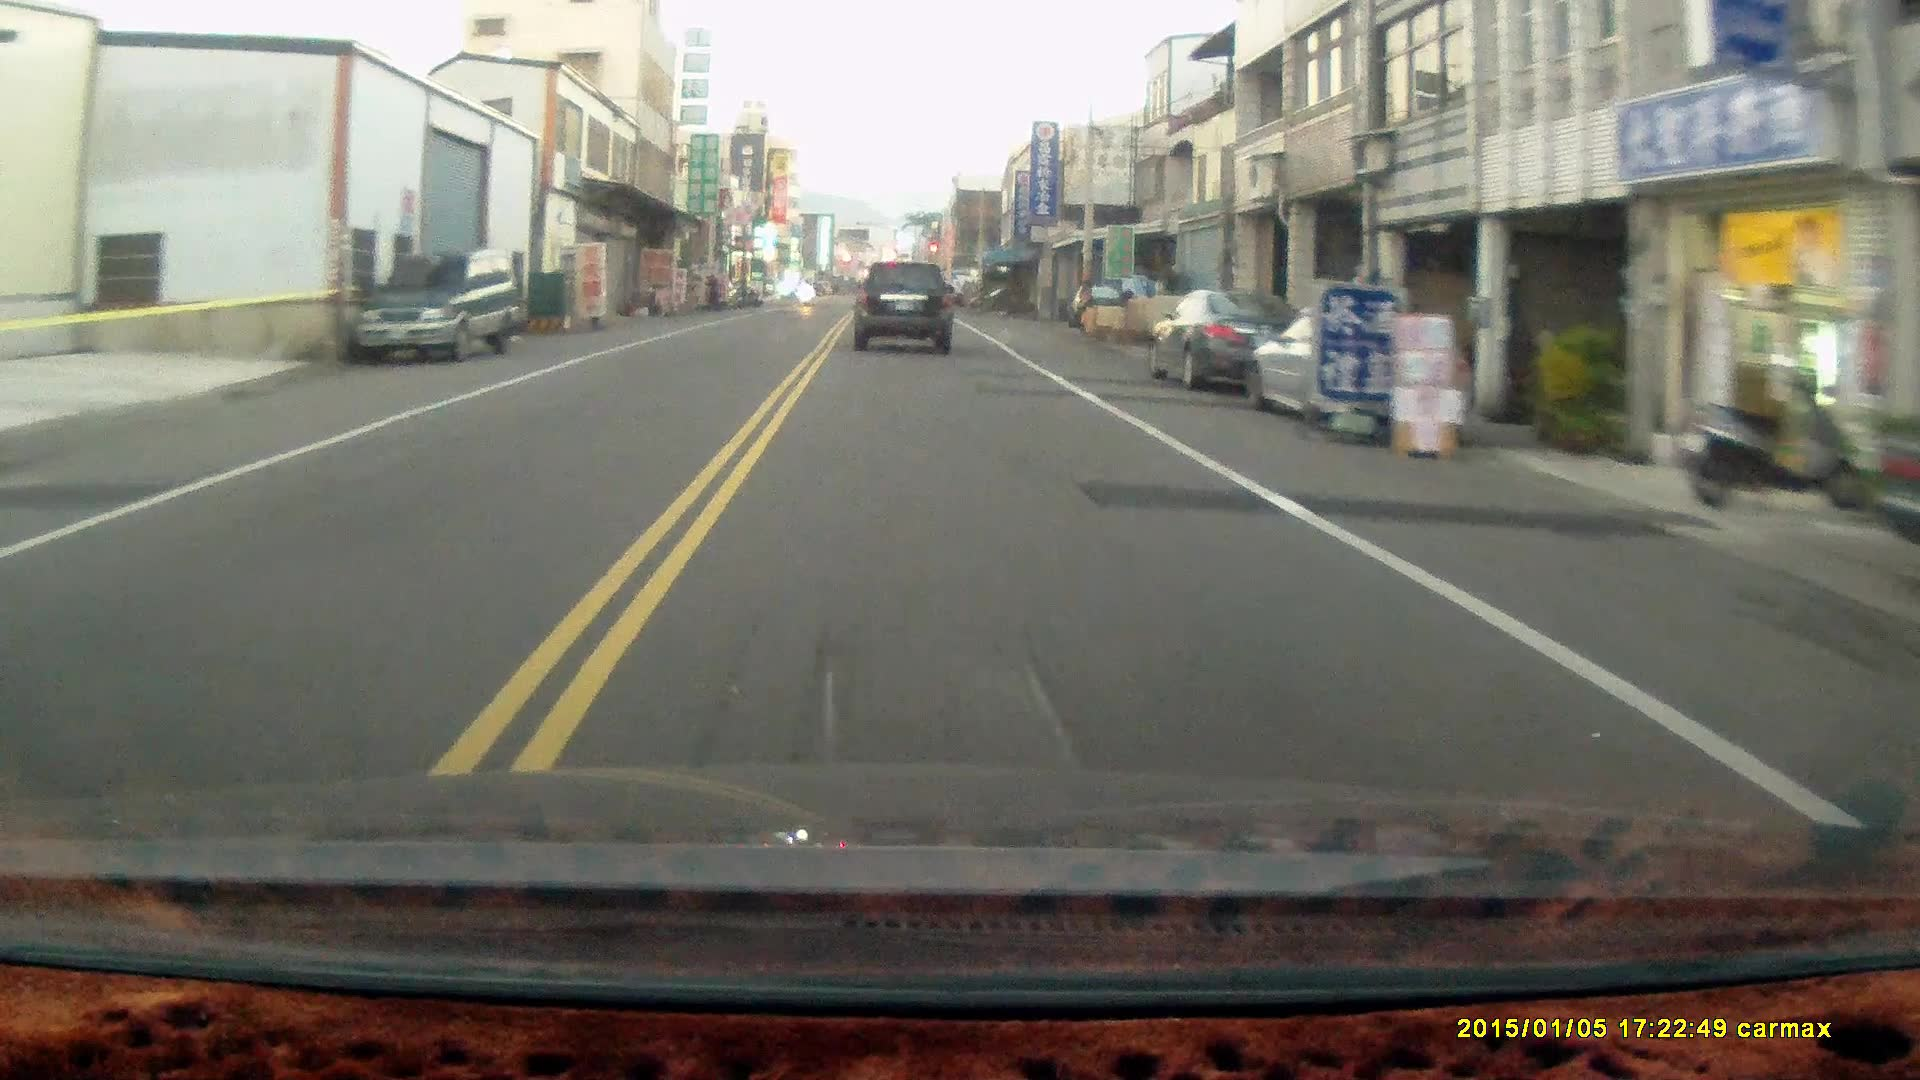vehicle: (1245, 314, 1477, 439), (353, 251, 522, 369), (1145, 291, 1311, 394), (851, 262, 955, 355)
